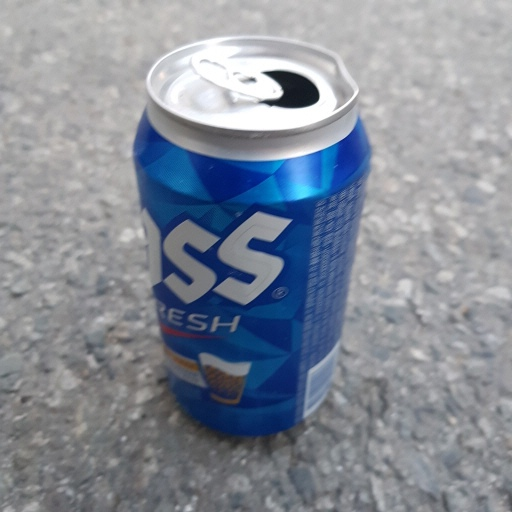Metal_0: (137, 34, 374, 435)
